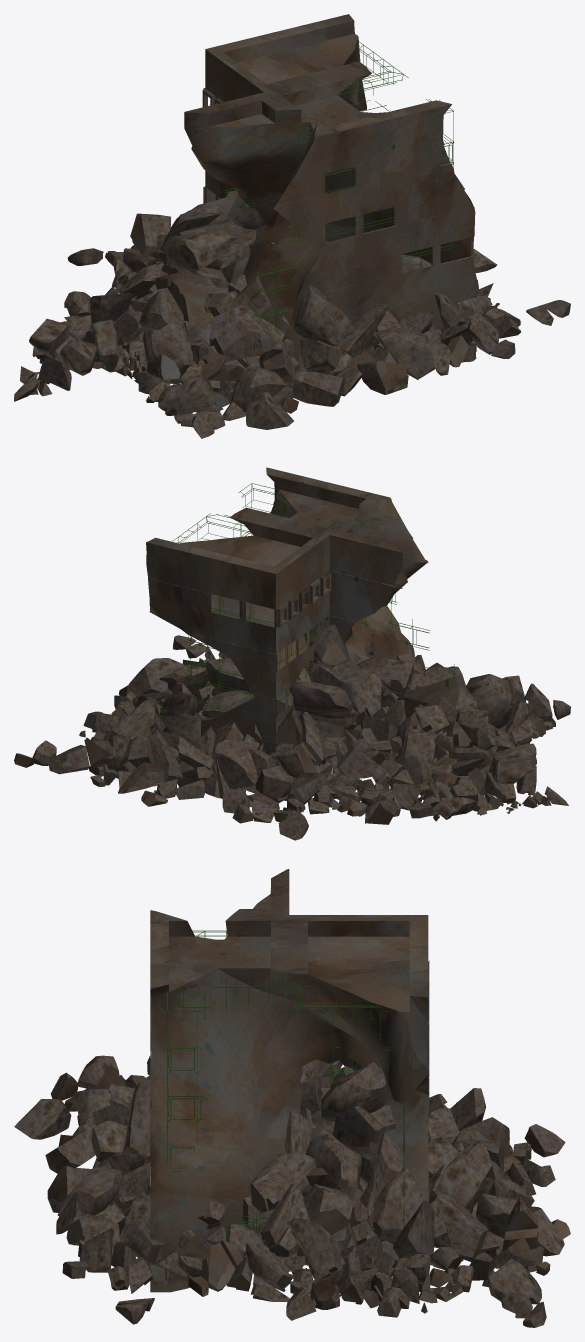
Rendered from sm_building_destroyed_04.gltf.
3 renders of one model, top to bottom at view 1: azimuth 30°, elevation 25°; view 2: azimuth 150°, elevation 25°; view 3: azimuth 270°, elevation 25°, orthographic. The views are drawn at different scales.
Parts seen in each view (by area): view 1: sm_building_destroyed_04-mesh; view 2: sm_building_destroyed_04-mesh; view 3: sm_building_destroyed_04-mesh.
Part boxes in pixels (x1,y1,x2,y2): sm_building_destroyed_04-mesh: (14, 14, 570, 438); sm_building_destroyed_04-mesh: (14, 467, 570, 840); sm_building_destroyed_04-mesh: (14, 869, 570, 1327).
Size of what is drawn, in the model's own units: 18.26 by 8.56 by 14.94.
Materials: 3 (2 with a texture image).
